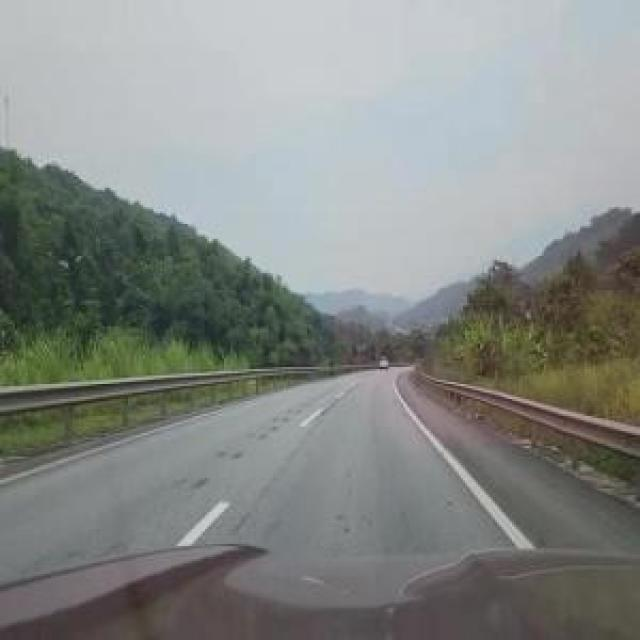clear-road: (0, 369, 640, 584)
